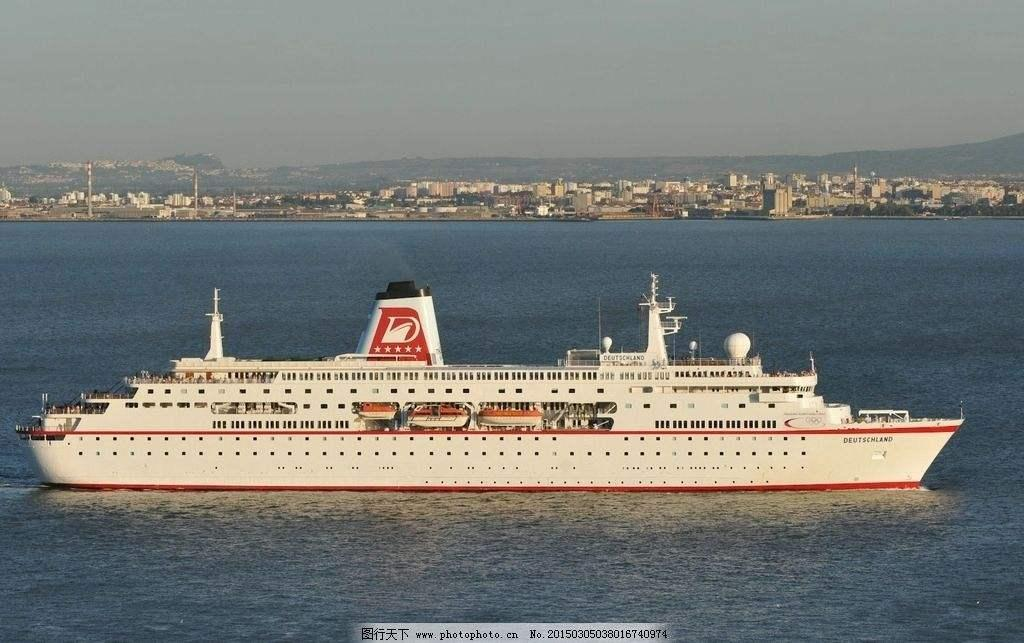youlun: (18, 283, 995, 487)
